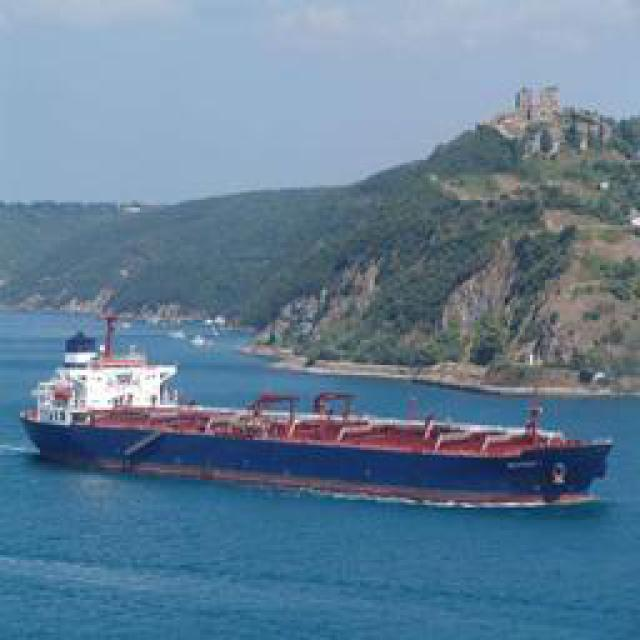Ship: (21, 347, 614, 510)
